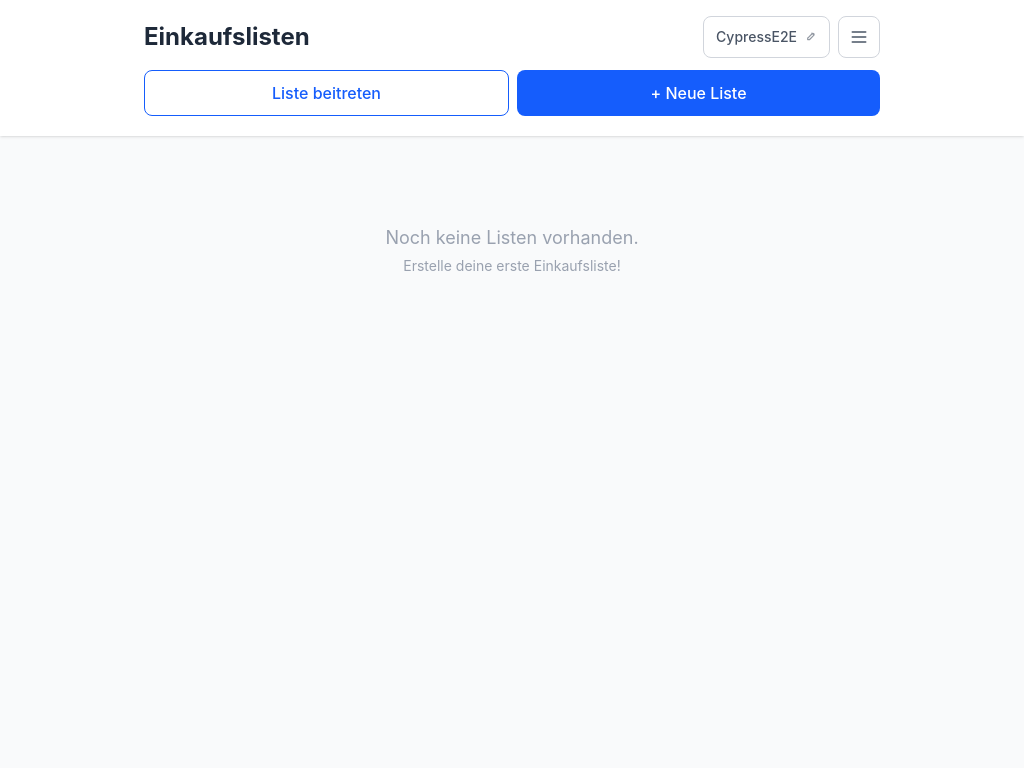
Dark/Light Mode (E2E) › Dark Mode bleibt nach Reload erhalten
Check: the heading "Einkaufslisten" is shown, box [144, 21, 310, 53]
Click the button with test id "menu-btn" at (859, 37), box [838, 16, 880, 58]
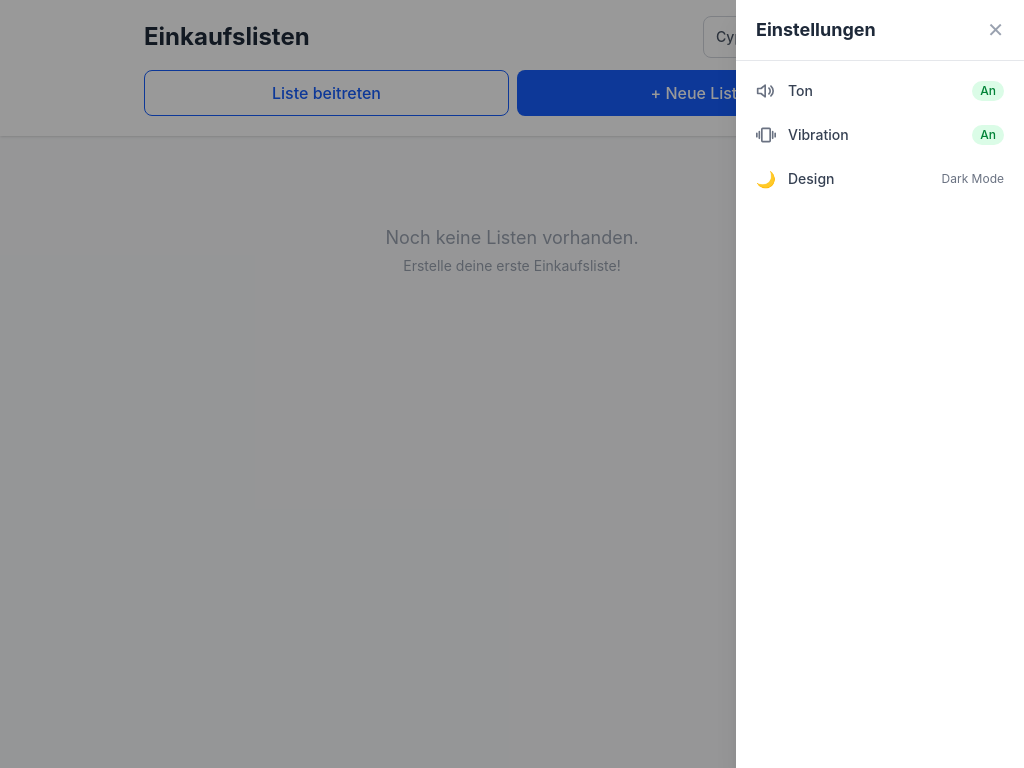
Click the button titled "Dark Mode" at (811, 179), box [736, 157, 1023, 201]
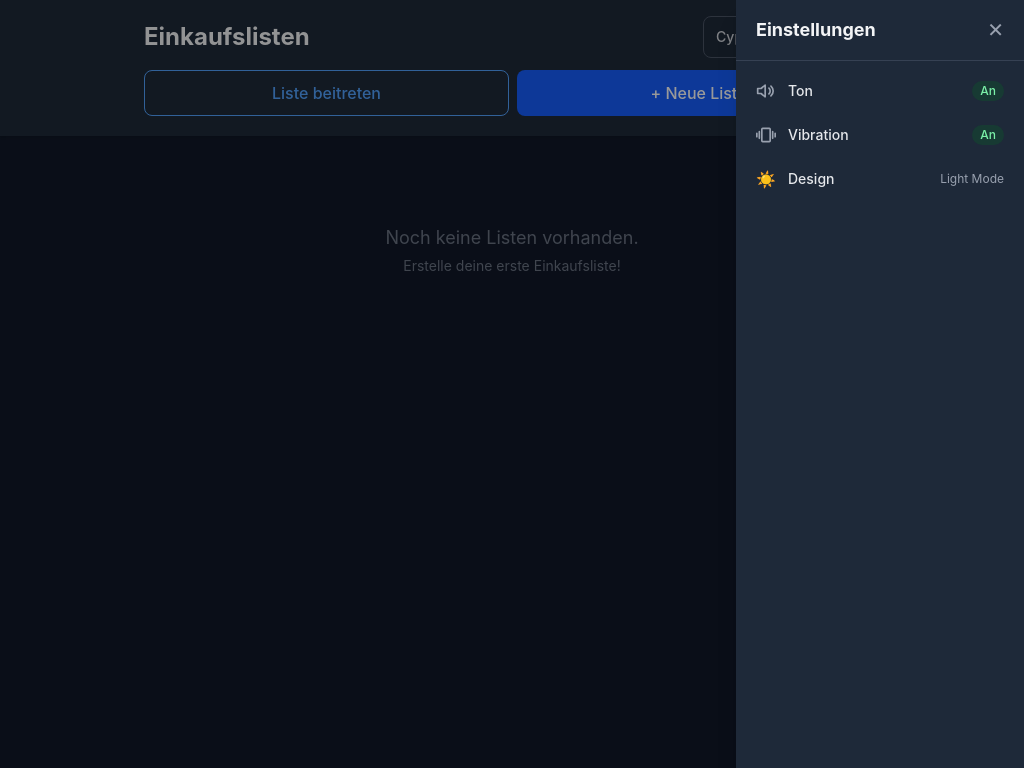
Reload the page
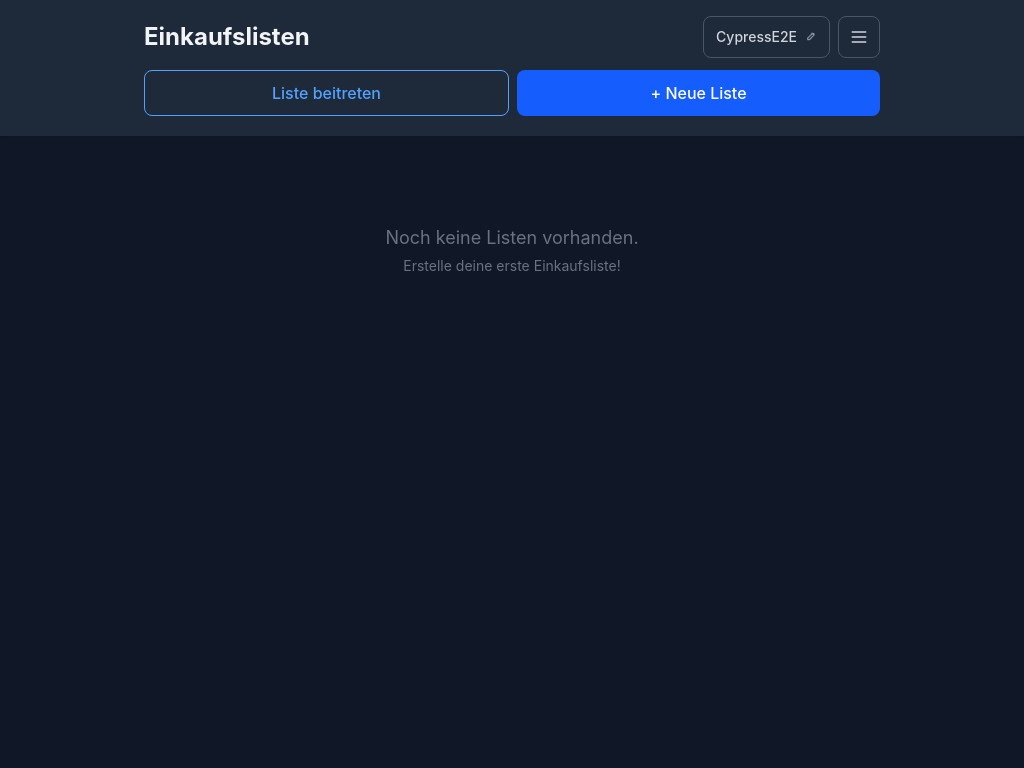
Click the button with test id "menu-btn" at (859, 37), box [838, 16, 880, 58]
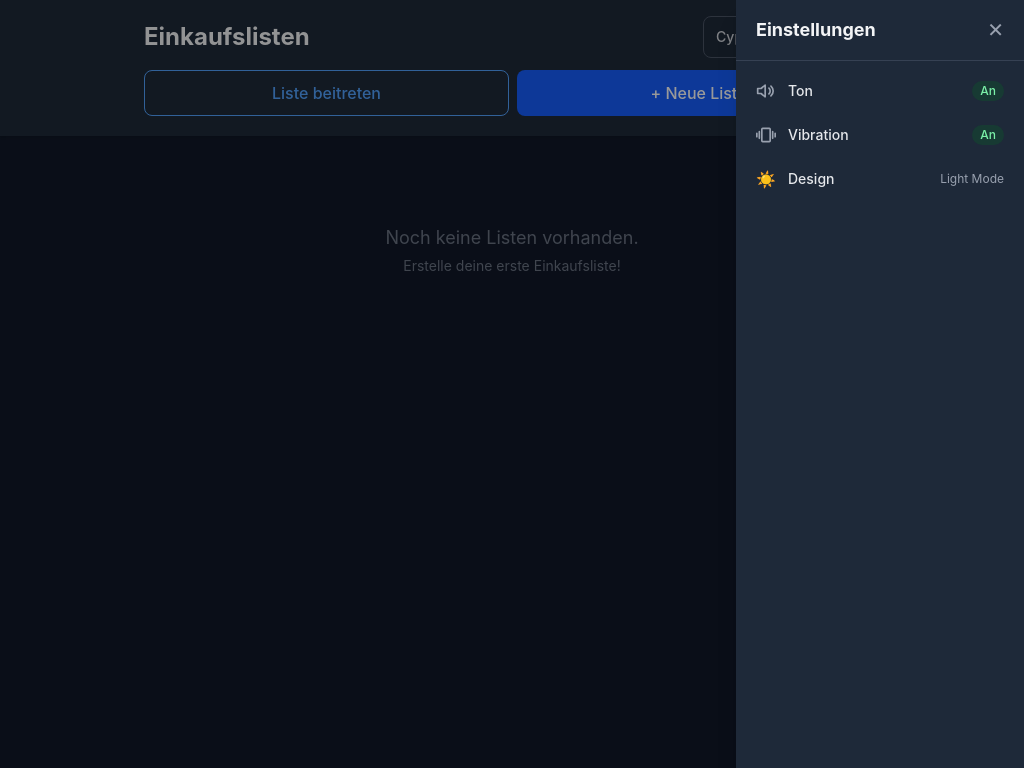
Check: the button titled "Light Mode" is shown, box [736, 157, 1023, 201]
